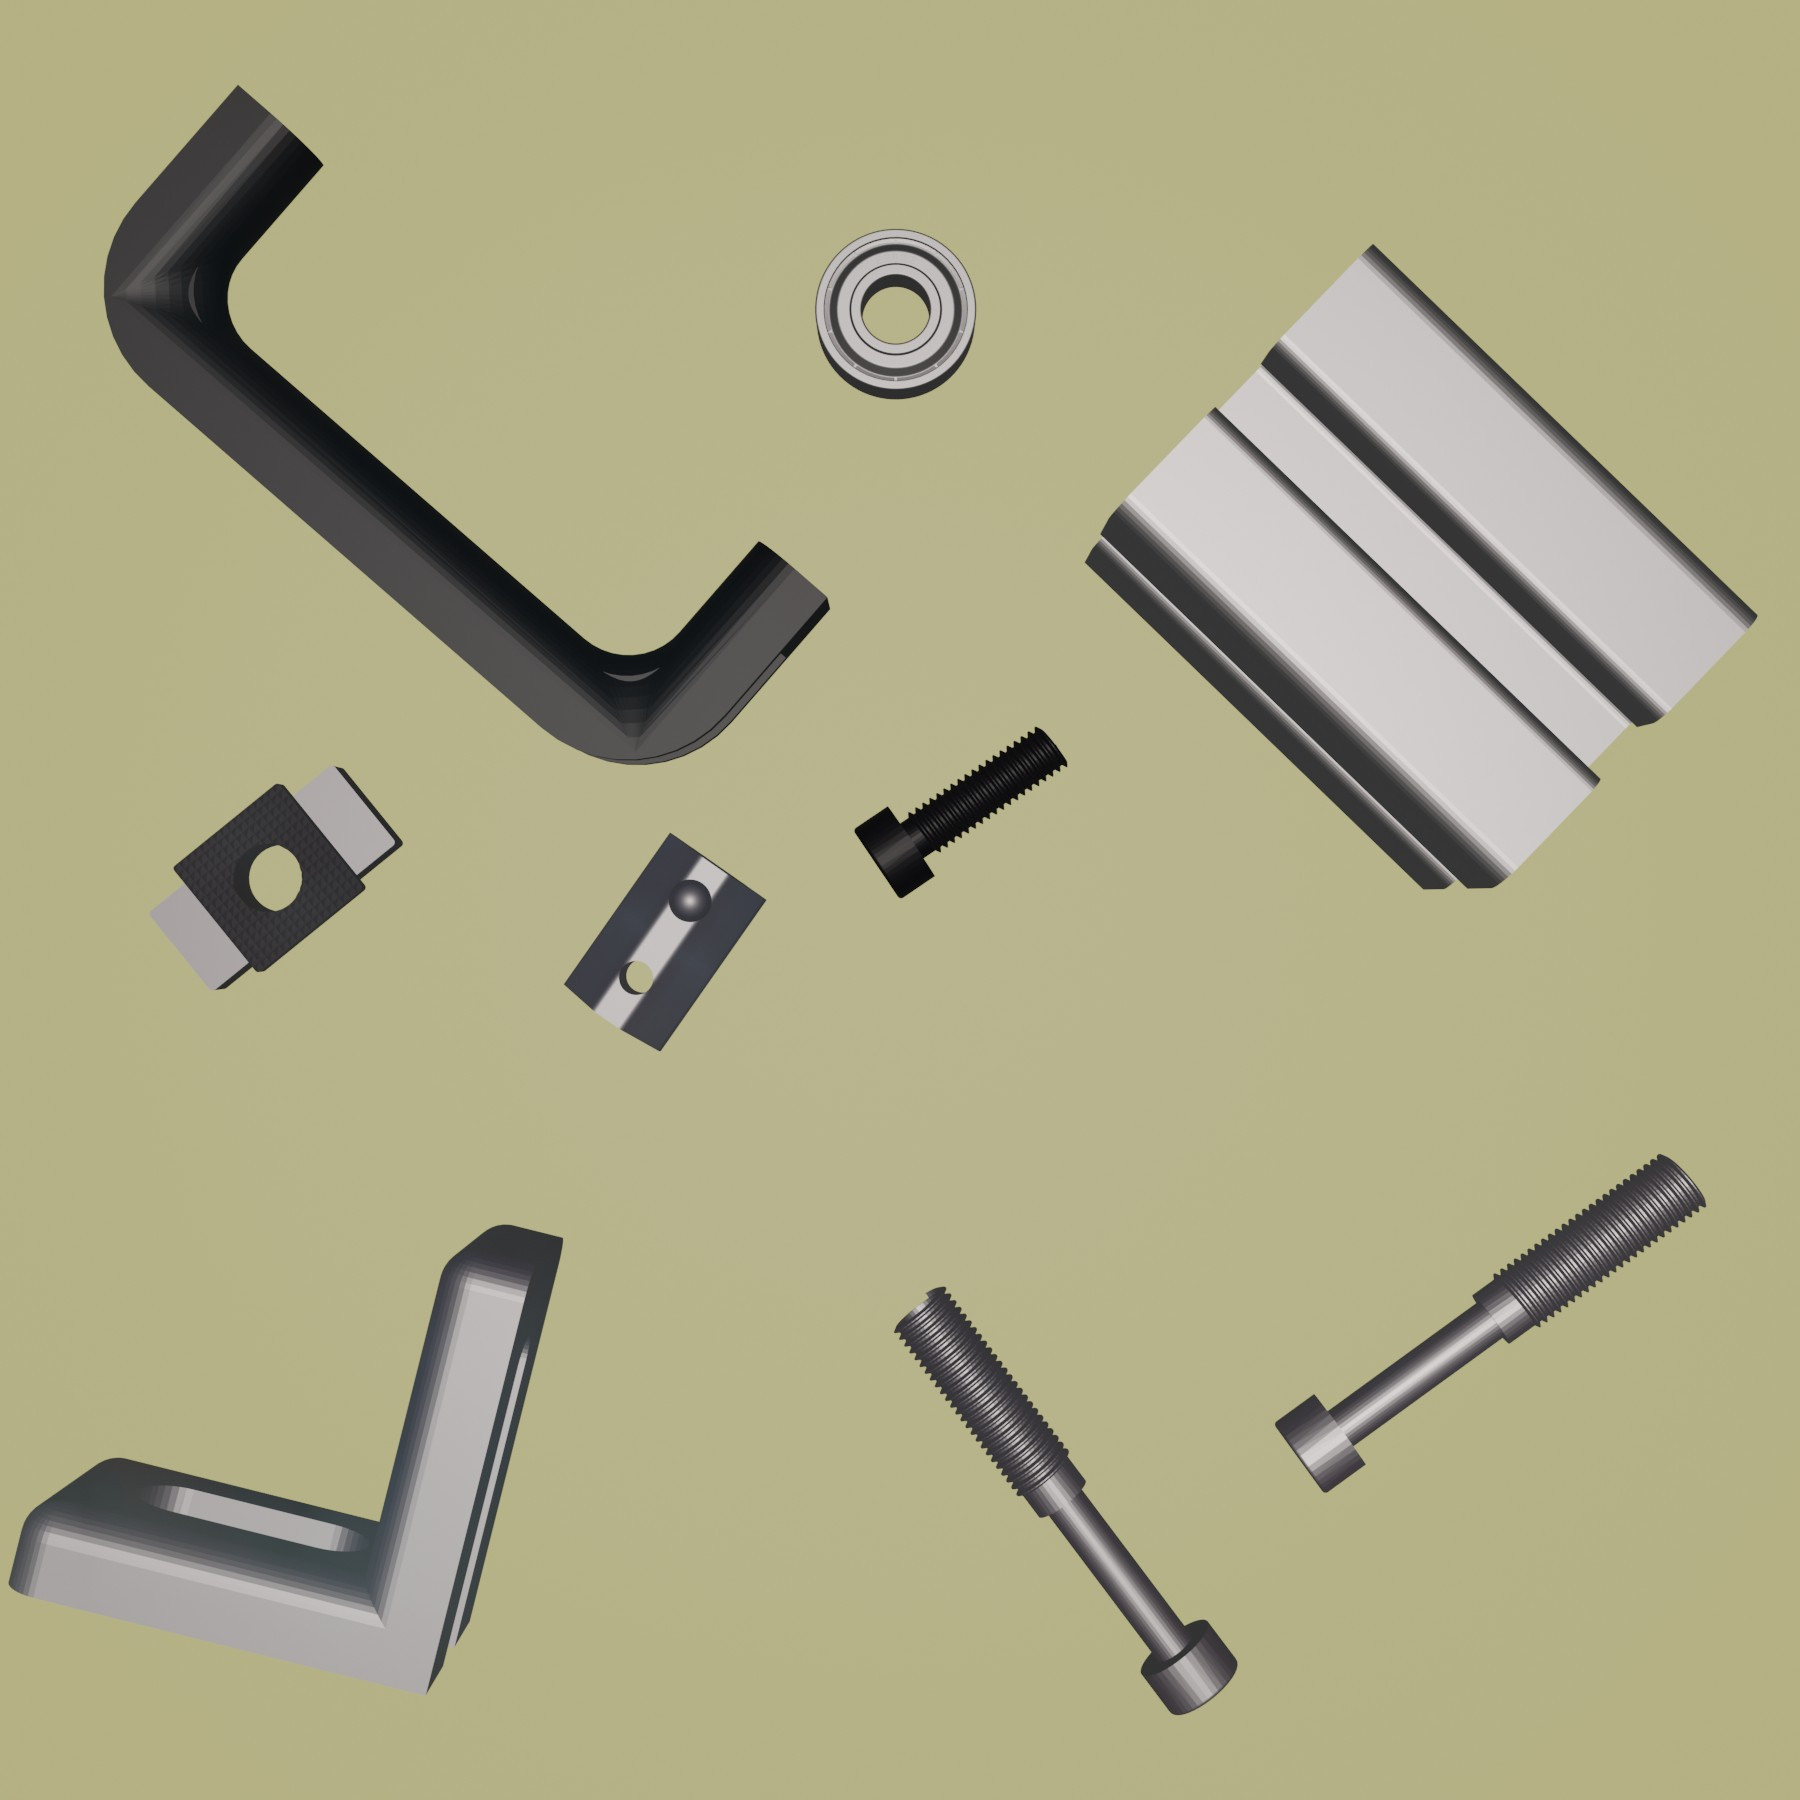Aluminium Extension: (1083, 237, 1759, 892)
Ball Bearing: (811, 223, 979, 401)
Multiwinkel: (7, 1220, 565, 1698)
Pull Handle: (101, 81, 832, 768)
Shoulder Socket Head Cap Screw: (888, 1282, 1240, 1719), (1274, 1152, 1709, 1495)
Socket Head Cap Screw: (854, 724, 1070, 900)
T Nut Square: (147, 762, 405, 992)
T Spring Nut: (562, 827, 766, 1053)
